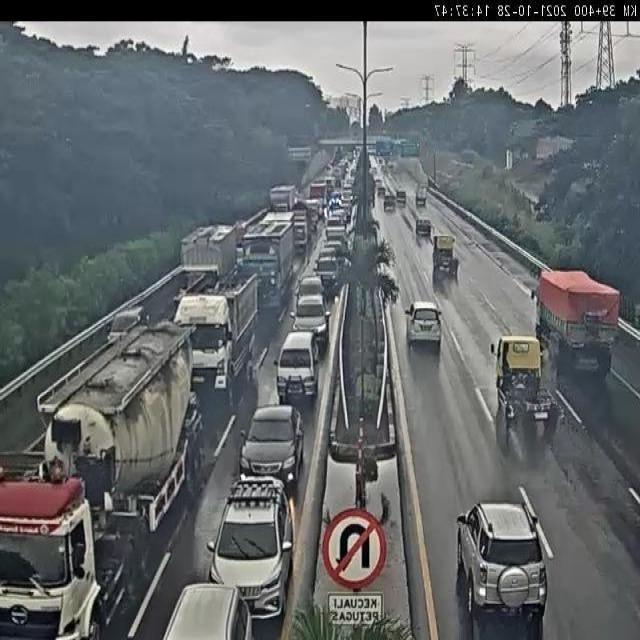Car: (456, 492, 552, 636), (206, 475, 294, 622), (156, 582, 255, 639), (238, 408, 304, 482), (276, 329, 322, 406), (292, 298, 330, 357), (406, 301, 442, 351), (107, 306, 145, 343), (315, 253, 346, 297), (296, 274, 326, 309), (416, 217, 431, 237), (384, 193, 395, 212), (396, 190, 406, 206), (377, 184, 385, 196)
Truck: (0, 327, 203, 628), (170, 269, 262, 403), (480, 334, 565, 439), (538, 275, 620, 366), (235, 221, 294, 302), (183, 216, 235, 292), (428, 232, 461, 286), (287, 206, 320, 247)
